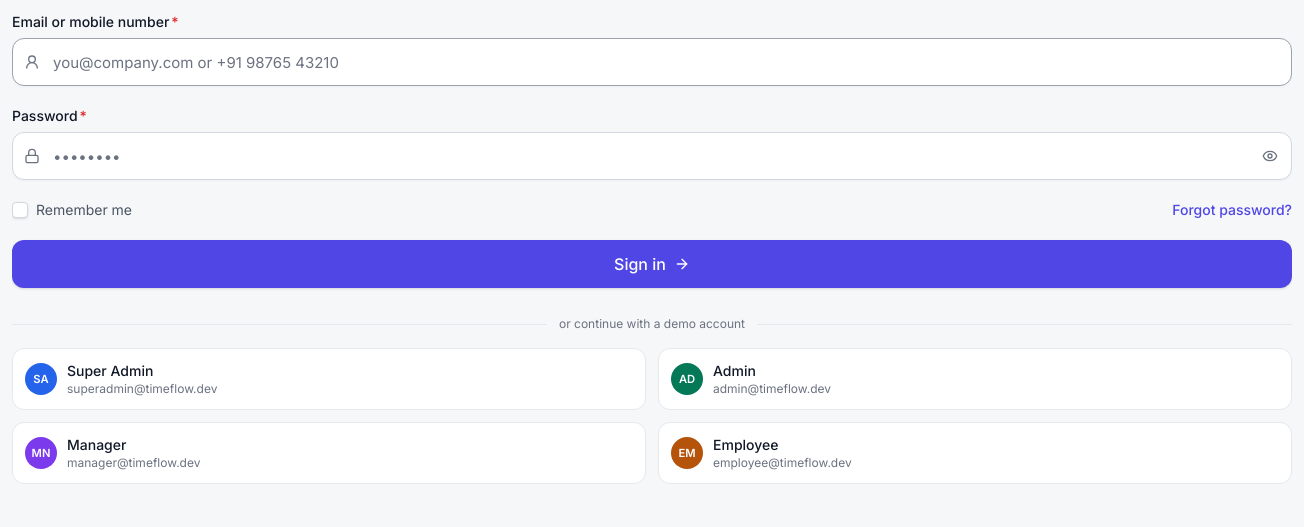
Test: LoginForm › asks for the country code on a bare mobile number
Type "9876543210" into the field labelled "Email or mobile number*".
click(652, 62); type("9876543210")  # box [12, 38, 1292, 86]
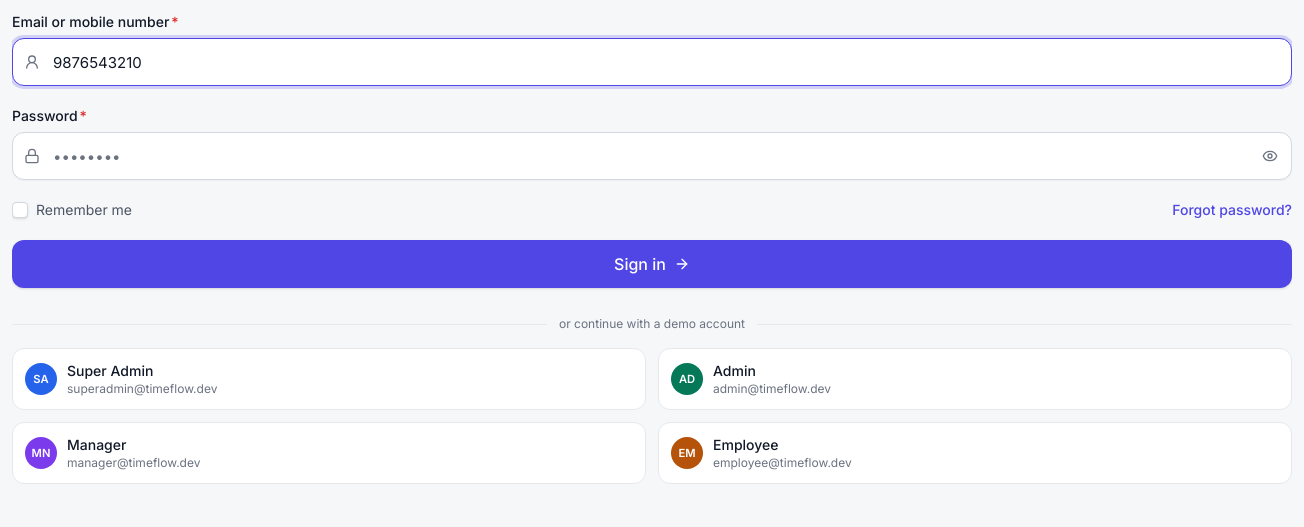
Type "Password123!" into the password field labelled "Password*".
click(652, 156); type("Password123!")  # box [12, 132, 1292, 180]
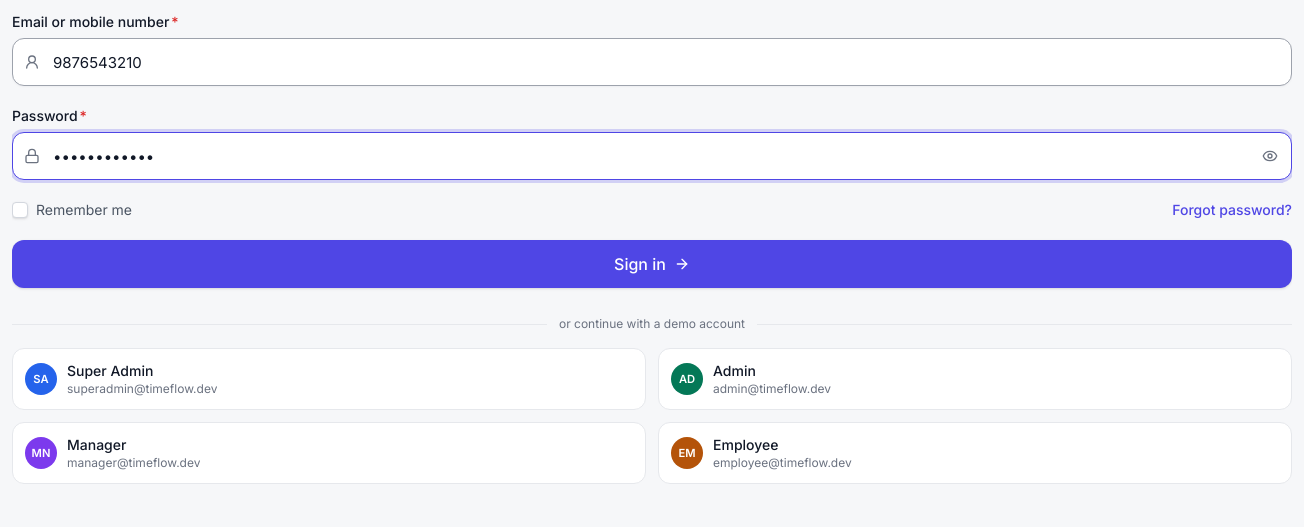
Click the button "Sign in".
click(652, 264)  # box [12, 240, 1292, 288]
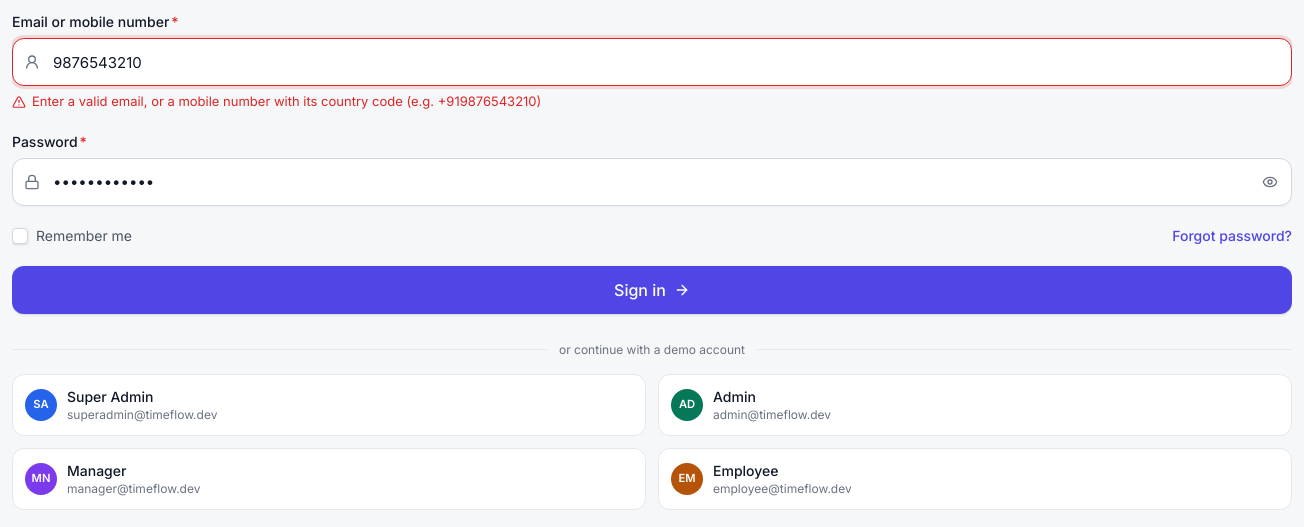
Expected: the text "with its country code" is shown, [32, 93, 541, 109]
